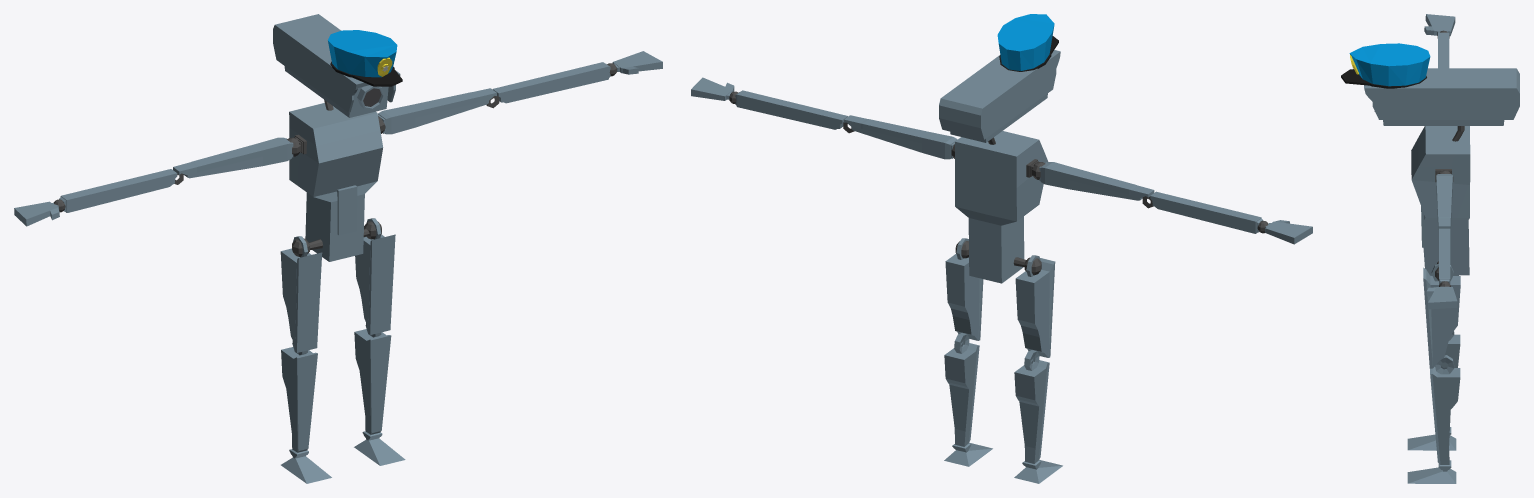
File: finaler256.fbx
3 renders of one model, left to right at view 1: azimuth 30°, elevation 25°; view 2: azimuth 150°, elevation 25°; view 3: azimuth 270°, elevation 25°, orthographic. The views are drawn at different scales.
Visible parts, largest first — view 1: Cube.009; view 2: Cube.009; view 3: Cube.009.
Part boxes in pixels (bbox=[...]): Cube.009: bbox=[14, 14, 662, 483]; Cube.009: bbox=[691, 14, 1312, 483]; Cube.009: bbox=[1341, 14, 1519, 483].
Size of the model in its own units: 648 by 425 by 169.
